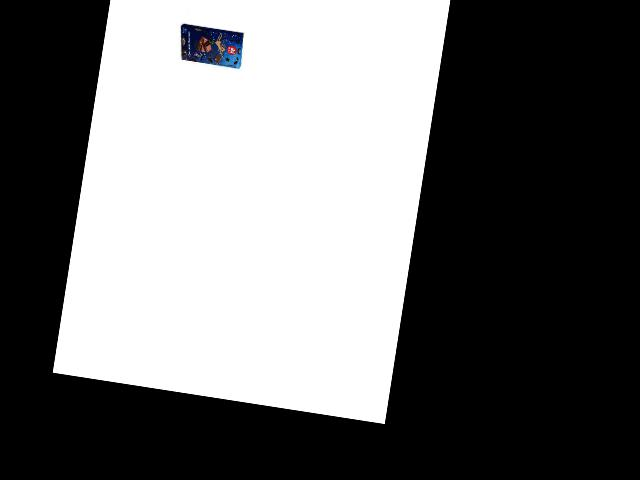chocolate: (175, 18, 247, 73)
